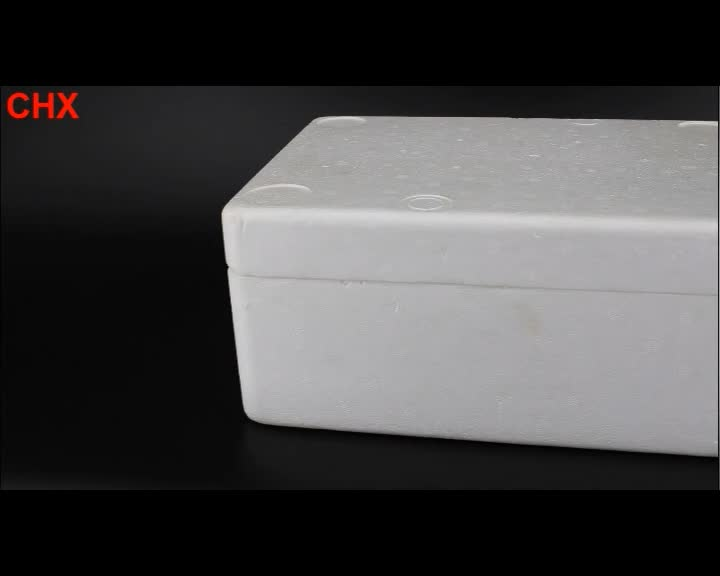泡沫箱: (222, 117, 716, 456)
